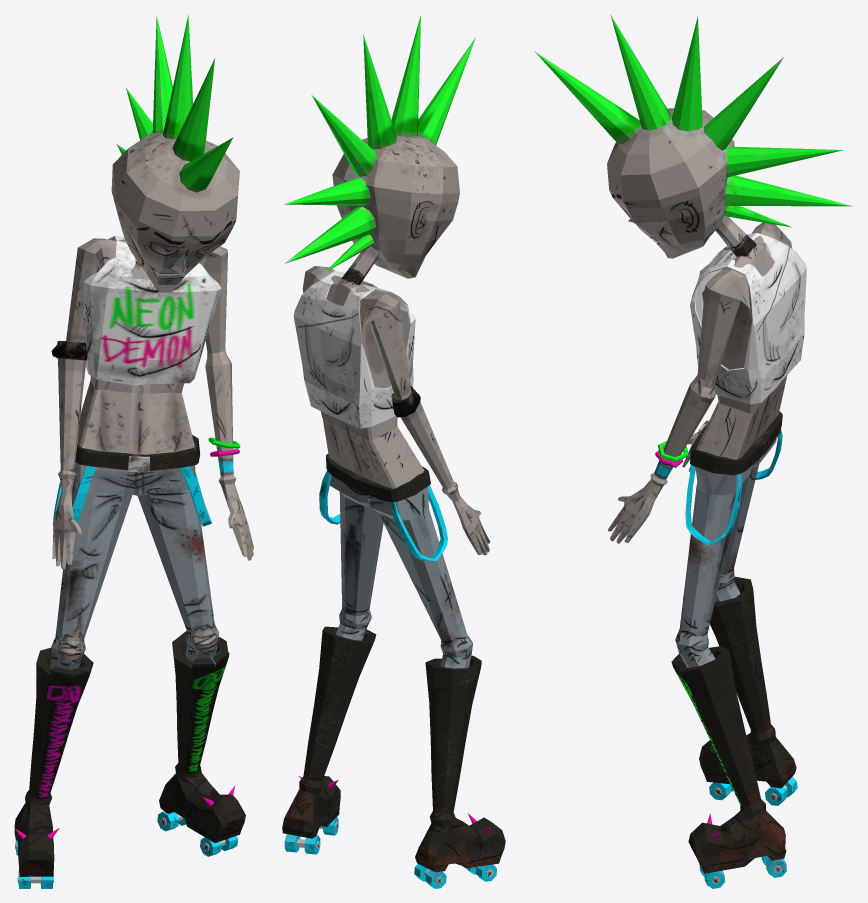
The model's file is punkAnimation_000031.obj.
3 views of the same model, side by side, from view 1: azimuth 30°, elevation 25°; view 2: azimuth 150°, elevation 25°; view 3: azimuth 270°, elevation 25° (orthographic). The views are drawn at different scales.
Visible parts, largest first — view 1: Cube.004_Cube.003; view 2: Cube.004_Cube.003; view 3: Cube.004_Cube.003.
Boxes of the visible parts, box(x1,y1,x2,y2) form: Cube.004_Cube.003: box(14, 14, 253, 888); Cube.004_Cube.003: box(282, 15, 505, 888); Cube.004_Cube.003: box(534, 15, 852, 888).
Bounding box in the file's own units: 1.98 × 7.4 × 2.53.
